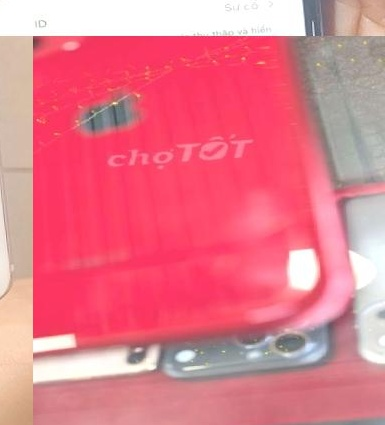scratch: (309, 0, 333, 36)
